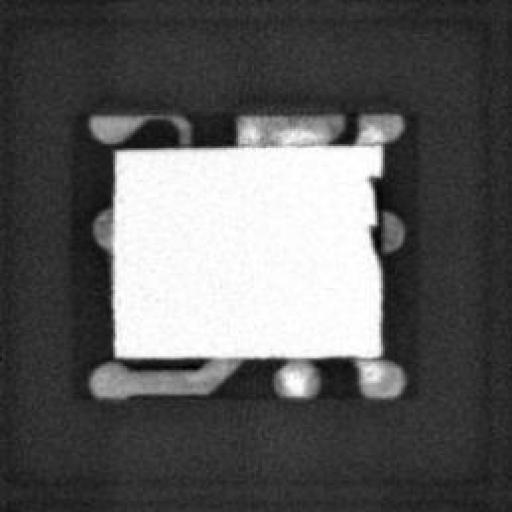DIE_BROKEN: (361, 169, 383, 265)
